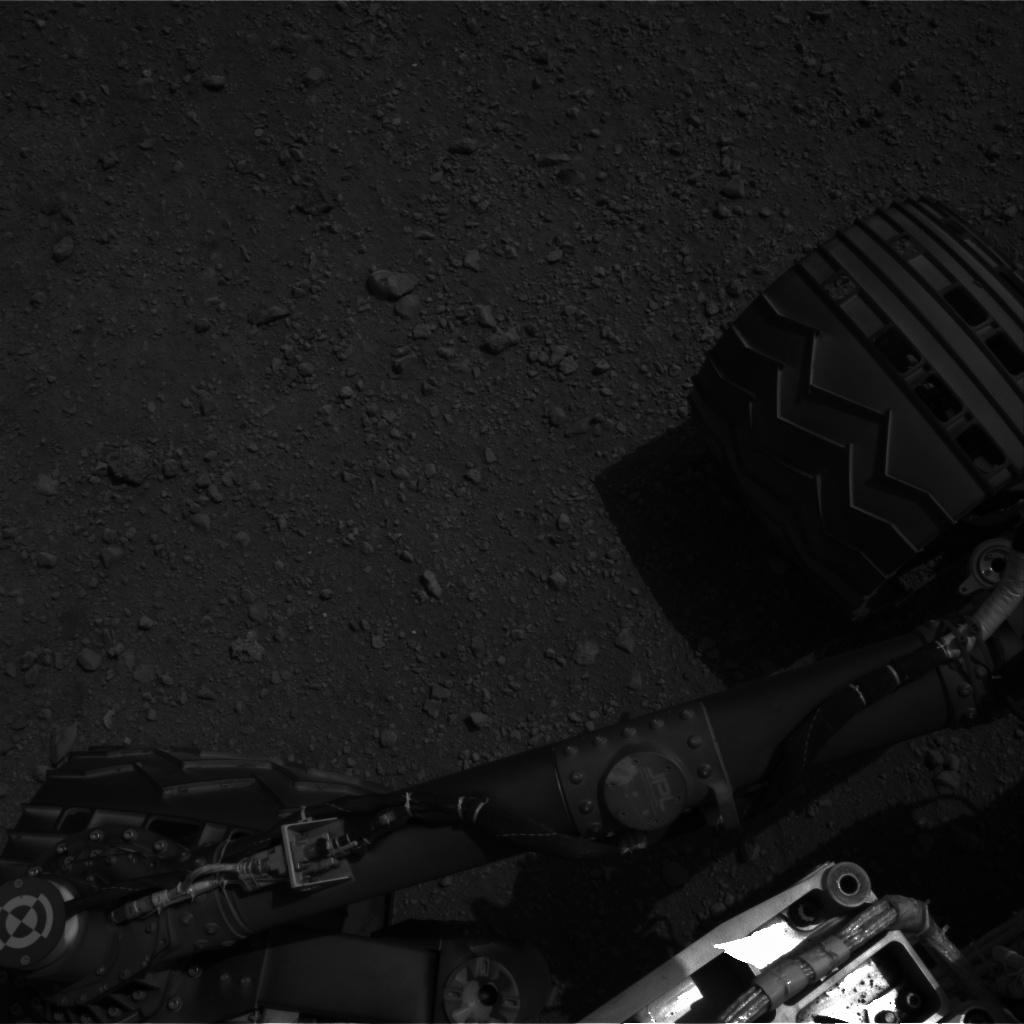soil: (2, 5, 1019, 762)
